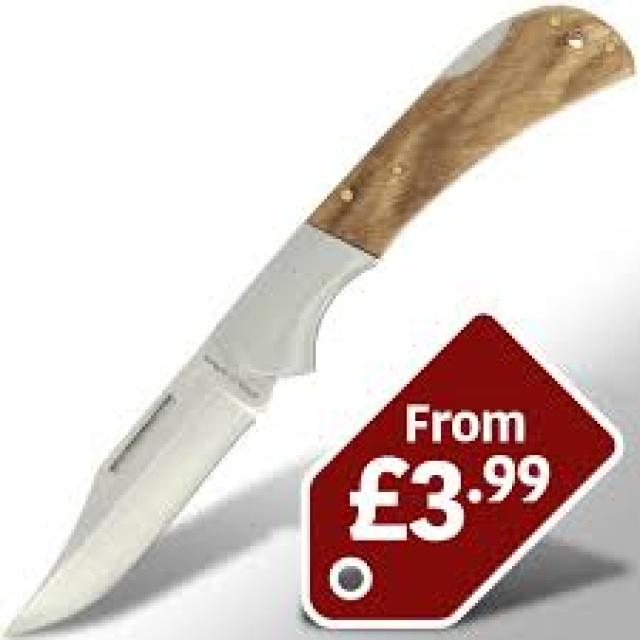knives: (33, 148, 337, 632)
